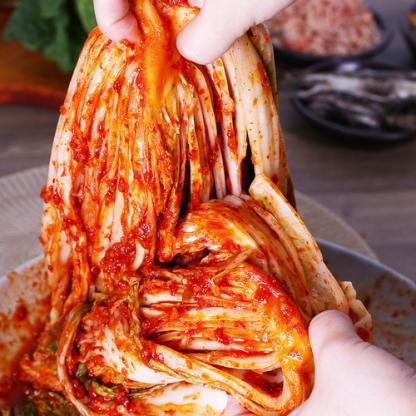kimchi: (18, 0, 314, 308), (10, 187, 371, 415)
